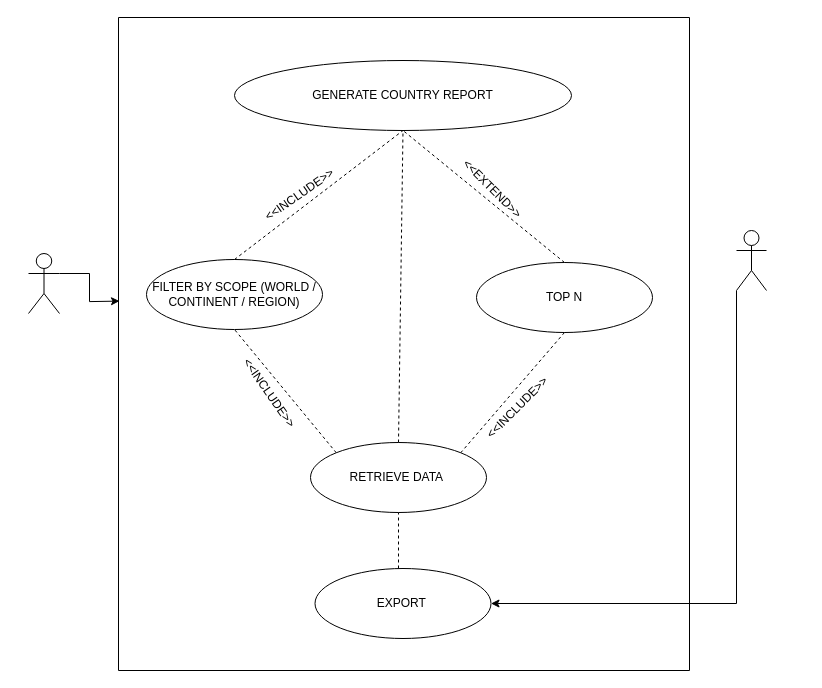
The diagram is 822 pixels wide and 688 high, and some of its shapes have lost their labels. Here are the shapes that lost their labels. From the top down, the box of each, then its label:
(736, 230, 766, 290): POPULATION SQL
(28, 252, 60, 314): ANALYST
